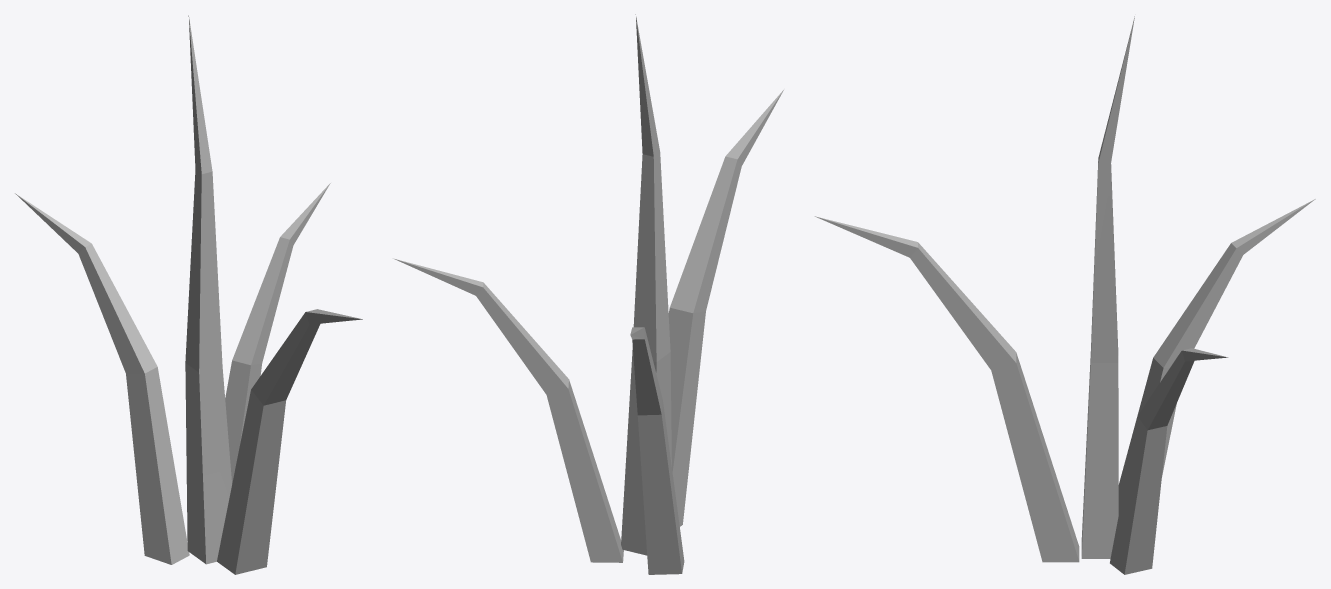
The model's file is Grass_13.fbx.
3 renders of one model, left to right at view 1: azimuth 30°, elevation 25°; view 2: azimuth 150°, elevation 25°; view 3: azimuth 270°, elevation 25°, orthographic. The views are drawn at different scales.
Parts seen in each view (by area): view 1: Grass_13; view 2: Grass_13; view 3: Grass_13.
Boxes of the visible parts, <box> form: Grass_13: <box>15,15,362,574</box>; Grass_13: <box>393,14,783,574</box>; Grass_13: <box>814,16,1315,574</box>.
Bounding box in the file's own units: 0.8589 × 1.6 × 1.36.
